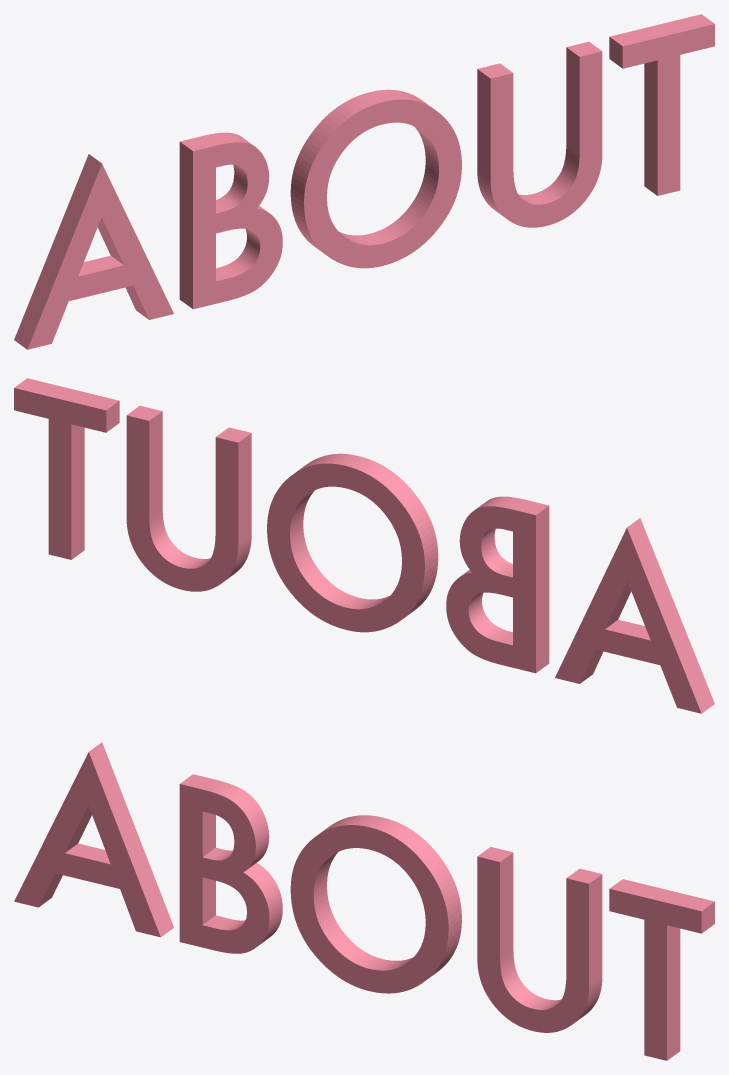
The model's file is about.glb.
3 views of the same model, one above another, from view 1: azimuth 30°, elevation 25°; view 2: azimuth 150°, elevation 25°; view 3: azimuth 330°, elevation 25° (orthographic).
Visible parts, largest first — view 1: テキスト.001; view 2: テキスト.001; view 3: テキスト.001.
Boxes of the visible parts, <box> form: テキスト.001: <box>14,14,714,349</box>; テキスト.001: <box>14,378,714,713</box>; テキスト.001: <box>14,742,714,1060</box>.
Bounding box in the file's own units: 14.7 × 3.49 × 0.4938.
